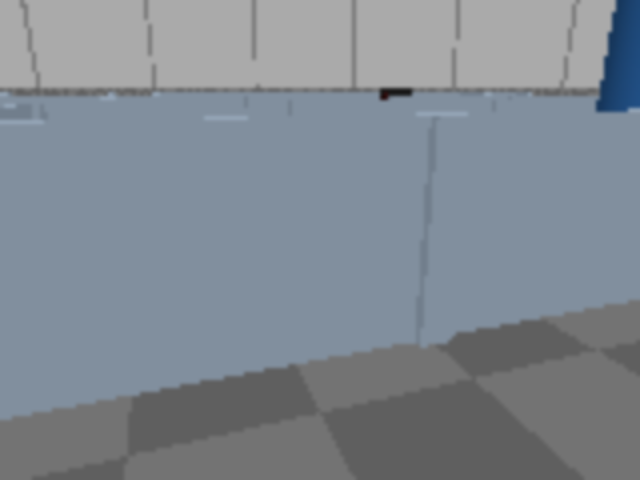person: (594, 0, 638, 249)
